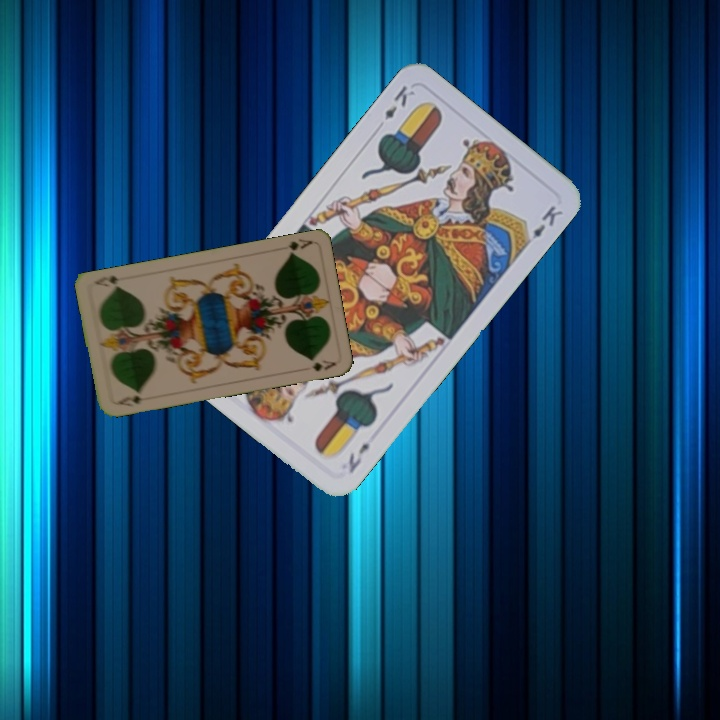EK: (380, 81, 417, 123), (344, 438, 373, 476)
GA: (111, 391, 152, 410), (284, 235, 315, 258)
